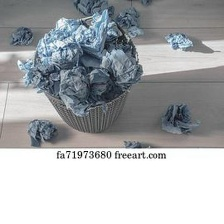book: (14, 10, 145, 118), (157, 96, 204, 140), (109, 5, 148, 42), (21, 111, 60, 148), (68, 0, 121, 19), (160, 29, 194, 52), (4, 22, 35, 47), (119, 136, 152, 148), (140, 0, 158, 12)
